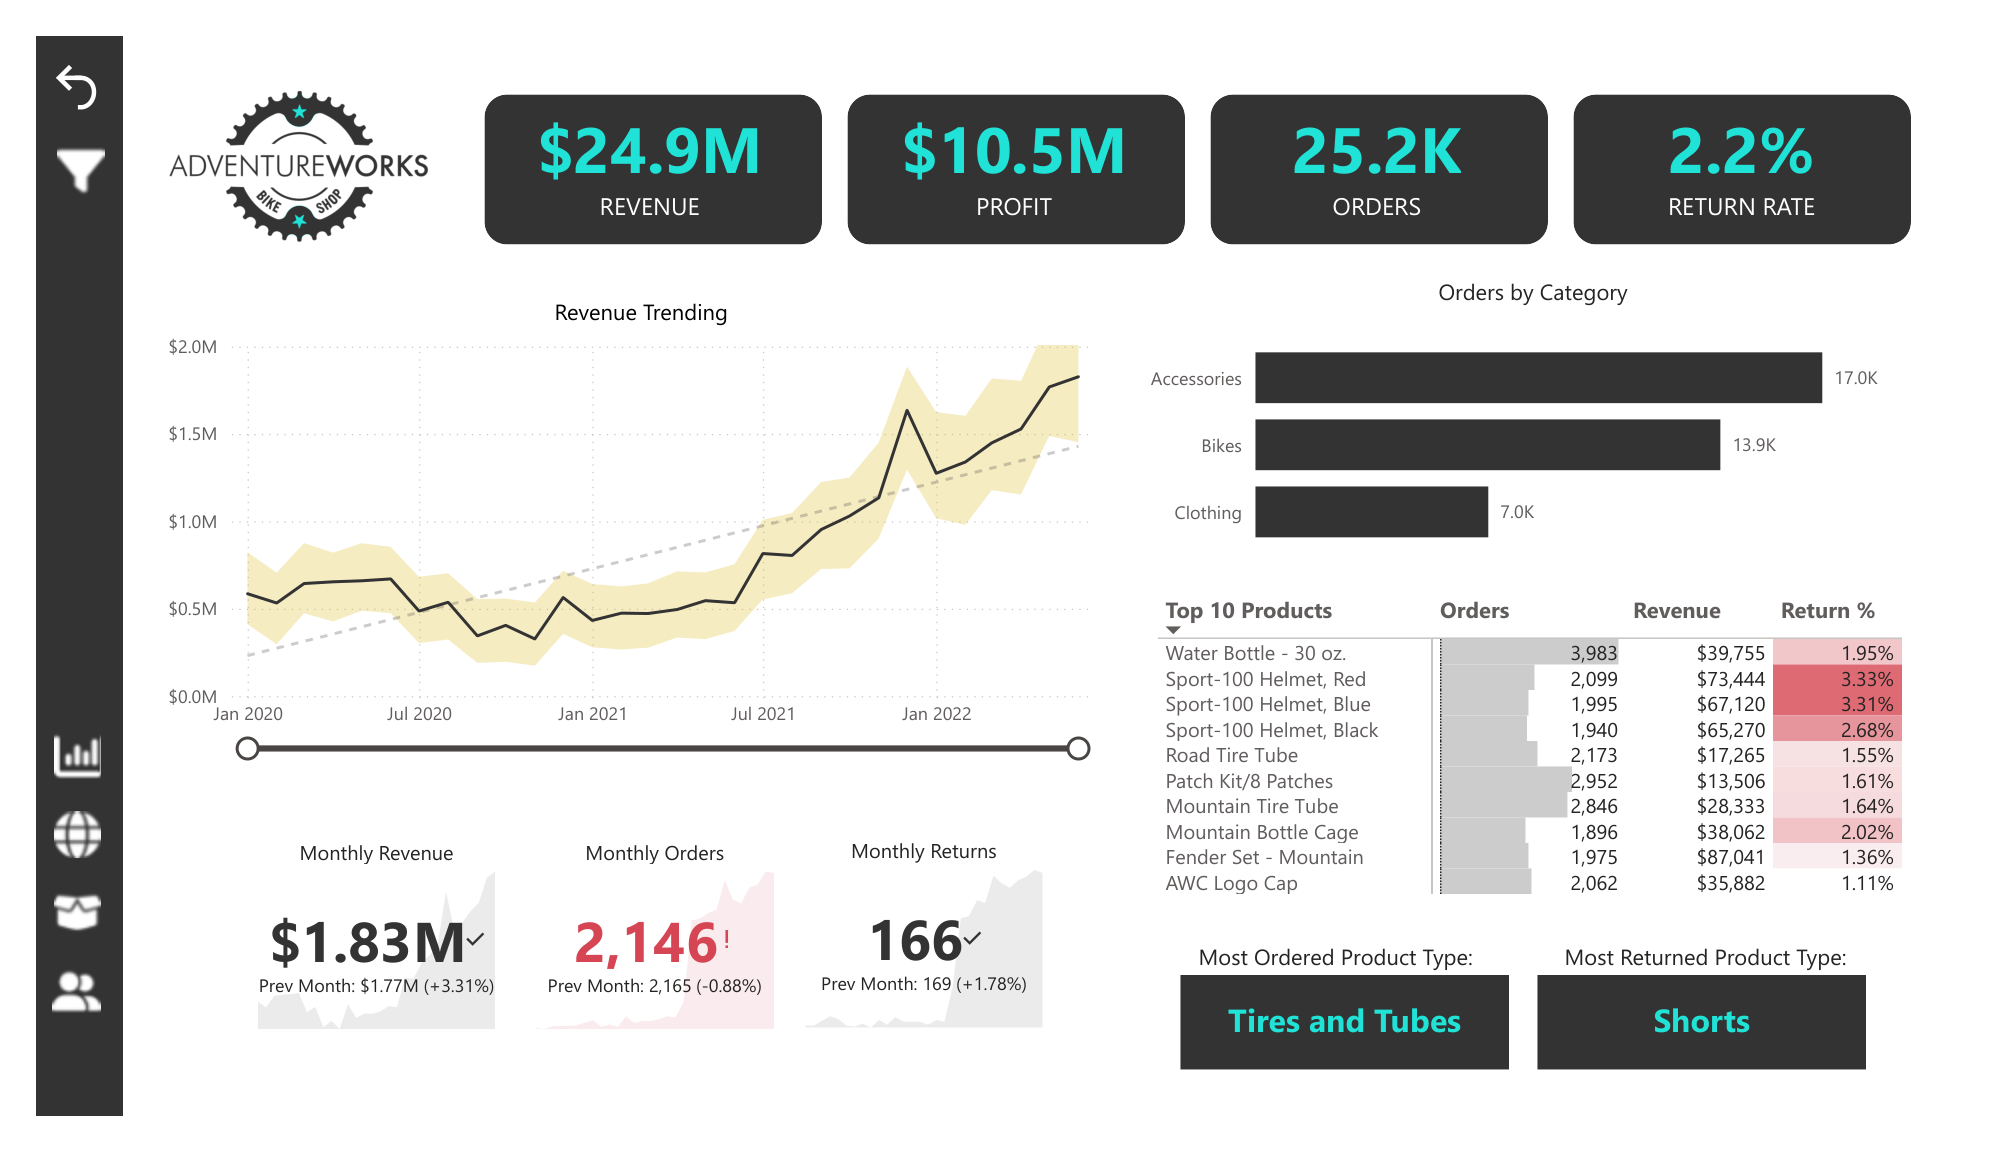

What the dashboard file says about the page in this screenshot:
{"tool":"powerbi","page":{"name":"Exec Dashboard","canvas":[1280,720],"ordinal":0},"visuals":[{"type":"image","title":"AW Logo","box":[65,12.5,221.2,148.8],"z":0},{"type":"cardVisual","fields":{"Data":["Measure Table.Total Revenue"]},"box":[286.2,27.5,246.2,111.2],"z":0,"group":"g2"},{"type":"group","id":"g1","title":"KPI Background","box":[298.7,38.2,951.2,100],"z":0,"group":"g3"},{"type":"shape","box":[298.7,38.2,225,100],"z":0,"group":"g1"},{"type":"actionButton","box":[7.8,460.3,39.6,39.6],"z":0,"group":"g4"},{"type":"shape","title":"Left Navbar","box":[0,0,57.5,720],"z":1000},{"type":"group","id":"g2","title":"KPI Values","box":[286.2,27.5,973.8,111.2],"z":1000,"group":"g3"},{"type":"cardVisual","fields":{"Data":["Measure Table.Total Profit"]},"box":[528.7,27.5,246.2,111.2],"z":1000,"group":"g2"},{"type":"shape","box":[540.8,38.2,225,100],"z":1000,"group":"g1"},{"type":"actionButton","box":[7.8,512.3,39.6,39.6],"z":1000,"group":"g4"},{"type":"group","id":"g3","title":"KPIs","box":[286.2,27.5,973.8,111.2],"z":2000},{"type":"cardVisual","fields":{"Data":["Measure Table.Total Orders"]},"box":[771.2,27.5,246.2,111.2],"z":2000,"group":"g2"},{"type":"shape","box":[1024.9,38.2,225,100],"z":2000,"group":"g1"},{"type":"actionButton","box":[7.2,617.6,40.9,39.6],"z":2000,"group":"g4"},{"type":"cardVisual","fields":{"Data":["Measure Table.Return Rate"]},"box":[1013.7,27.5,246.2,111.2],"z":3000,"group":"g2"},{"type":"shape","box":[782.9,38.2,225,100],"z":3000,"group":"g1"},{"type":"lineChart","title":"Revenue Trending","fields":{"Category":["Calendar Lookup.Start of Month"],"Y":["Measure Table.Total Revenue"]},"box":[82.5,172.5,641.2,313.8],"z":3000},{"type":"actionButton","box":[7.8,564.3,39.6,40.9],"z":3000,"group":"g4"},{"type":"kpi","title":"Monthly Revenue","fields":{"Goal":["Measure Table.Previous Month Revenue"],"Indicator":["Measure Table.Total Revenue"],"TrendLine":["Calendar Lookup.Calendar Hierarchy.Start of Month"]},"box":[142.8,534.8,168,132],"z":4000},{"type":"kpi","title":"Monthly Orders","fields":{"Goal":["Measure Table.Previous Month Orders"],"Indicator":["Measure Table.Total Orders"],"TrendLine":["Calendar Lookup.Calendar Hierarchy.Start of Month"]},"box":[328.5,534.8,168.4,132.5],"z":5000},{"type":"kpi","title":"Monthly Returns","fields":{"Goal":["Measure Table.Previous Month Returns"],"Indicator":["Measure Table.Total Returns"],"TrendLine":["Calendar Lookup.Calendar Hierarchy.Start of Month"]},"box":[508,533.5,168.4,132.5],"z":6000},{"type":"clusteredBarChart","title":"Orders by Category","fields":{"Category":["Product Categories Lookup.CategoryName"],"Y":["Measure Table.Total Orders"]},"box":[732.5,160,530,198.8],"z":7000},{"type":"pivotTable","fields":{"Rows":["Product Lookup.ProductName"],"Values":["Measure Table.Total Orders","Measure Table.Total Revenue","Measure Table.Return Rate"]},"box":[742.9,367,520.4,214.8],"z":8000},{"type":"card","fields":{"Values":["Min(Product Subcategories Lookup.SubcategoryName)"]},"box":[763.4,625.9,218.7,62.7],"z":9000},{"type":"card","fields":{"Values":["Min(Product Subcategories Lookup.SubcategoryName)"]},"box":[1001.2,625.9,218.7,62.7],"z":10000},{"type":"textbox","box":[1014,597.5,205.9,33.2],"z":11000},{"type":"textbox","box":[769.8,597.5,205.9,33.2],"z":12000},{"type":"actionButton","box":[7.4,14.1,43.3,40.1],"z":13000},{"type":"group","id":"g4","title":"Navigation Buttons","box":[7.2,460.3,40.9,196.9],"z":14000},{"type":"actionButton","box":[7.5,70.2,43.5,39.6],"z":15000}]}

Visuals, with their boxes in screenshot pixels (x1, y1, x2, y2), scaled from the page's 1280x720 canvas onto the 1992x1152 screenshot:
"AW Logo" image: pyautogui.locateOnScreen(101, 20, 445, 258)
cardVisual - Measure Table.Total Revenue: pyautogui.locateOnScreen(445, 44, 829, 222)
"KPI Background" group: pyautogui.locateOnScreen(465, 61, 1945, 221)
shape: pyautogui.locateOnScreen(465, 61, 815, 221)
actionButton: pyautogui.locateOnScreen(12, 736, 74, 800)
"Left Navbar" shape: pyautogui.locateOnScreen(0, 0, 89, 1151)
"KPI Values" group: pyautogui.locateOnScreen(445, 44, 1961, 222)
cardVisual - Measure Table.Total Profit: pyautogui.locateOnScreen(823, 44, 1206, 222)
shape: pyautogui.locateOnScreen(842, 61, 1192, 221)
actionButton: pyautogui.locateOnScreen(12, 820, 74, 883)
"KPIs" group: pyautogui.locateOnScreen(445, 44, 1961, 222)
cardVisual - Measure Table.Total Orders: pyautogui.locateOnScreen(1200, 44, 1583, 222)
shape: pyautogui.locateOnScreen(1595, 61, 1945, 221)
actionButton: pyautogui.locateOnScreen(11, 988, 75, 1052)
cardVisual - Measure Table.Return Rate: pyautogui.locateOnScreen(1578, 44, 1961, 222)
shape: pyautogui.locateOnScreen(1218, 61, 1569, 221)
"Revenue Trending" lineChart: pyautogui.locateOnScreen(128, 276, 1126, 778)
actionButton: pyautogui.locateOnScreen(12, 903, 74, 968)
"Monthly Revenue" kpi: pyautogui.locateOnScreen(222, 856, 484, 1067)
"Monthly Orders" kpi: pyautogui.locateOnScreen(511, 856, 773, 1068)
"Monthly Returns" kpi: pyautogui.locateOnScreen(791, 854, 1053, 1066)
"Orders by Category" clusteredBarChart: pyautogui.locateOnScreen(1140, 256, 1965, 574)
pivotTable - Product Lookup.ProductName x Measure Table.Total Orders: pyautogui.locateOnScreen(1156, 587, 1966, 931)
card - Min(Product Subcategories Lookup.SubcategoryName): pyautogui.locateOnScreen(1188, 1001, 1528, 1102)
card - Min(Product Subcategories Lookup.SubcategoryName): pyautogui.locateOnScreen(1558, 1001, 1898, 1102)
textbox: pyautogui.locateOnScreen(1578, 956, 1898, 1009)
textbox: pyautogui.locateOnScreen(1198, 956, 1518, 1009)
actionButton: pyautogui.locateOnScreen(12, 23, 79, 87)
"Navigation Buttons" group: pyautogui.locateOnScreen(11, 736, 75, 1052)
actionButton: pyautogui.locateOnScreen(12, 112, 79, 176)
